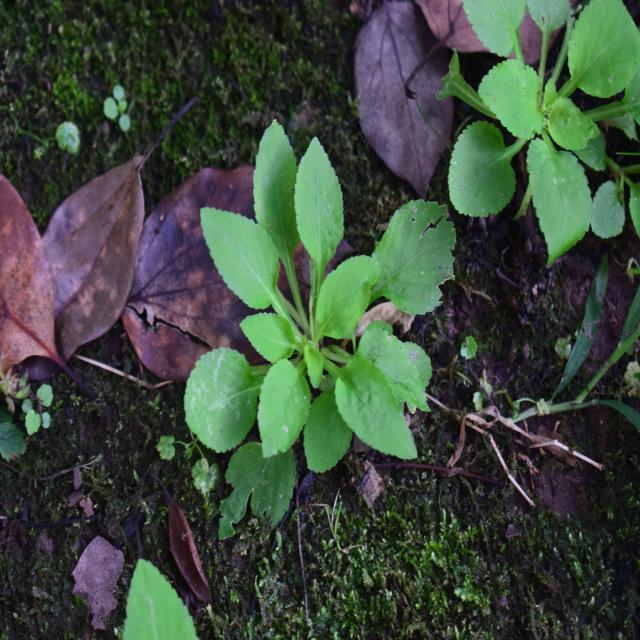Viola: (188, 141, 439, 487)
